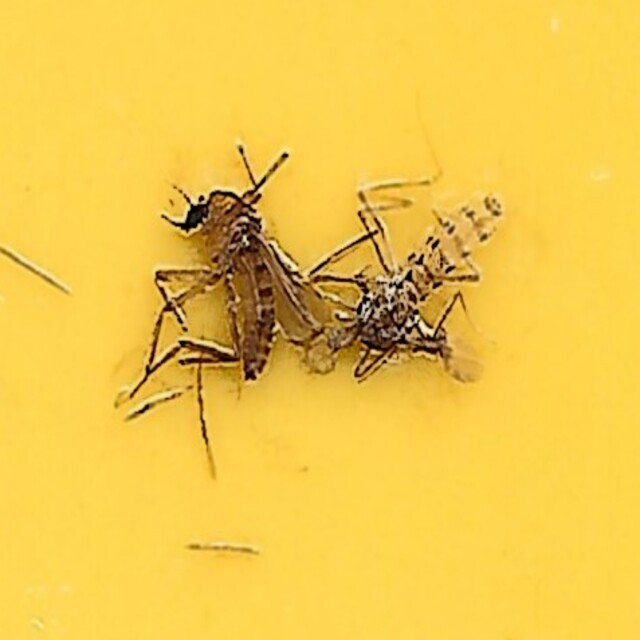Nematocera: (134, 173, 326, 467), (310, 185, 506, 386)
